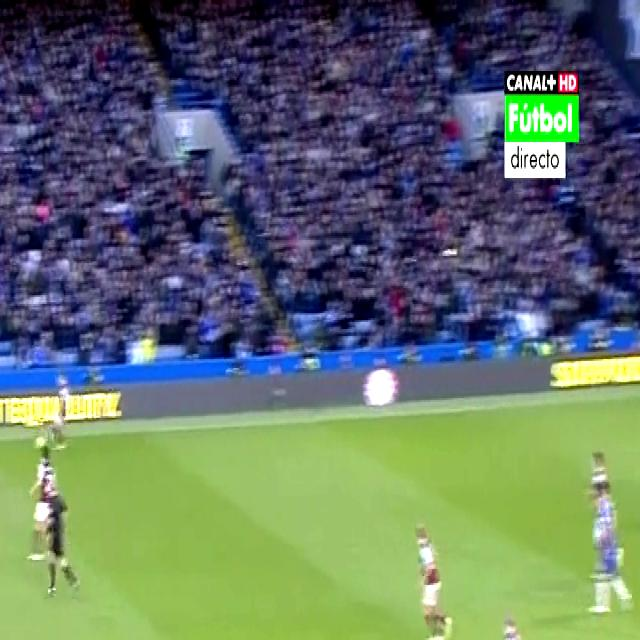referee: (40, 485, 80, 609)
soccer-player: (583, 460, 637, 627), (413, 508, 459, 640), (26, 434, 66, 558), (491, 606, 543, 640)
